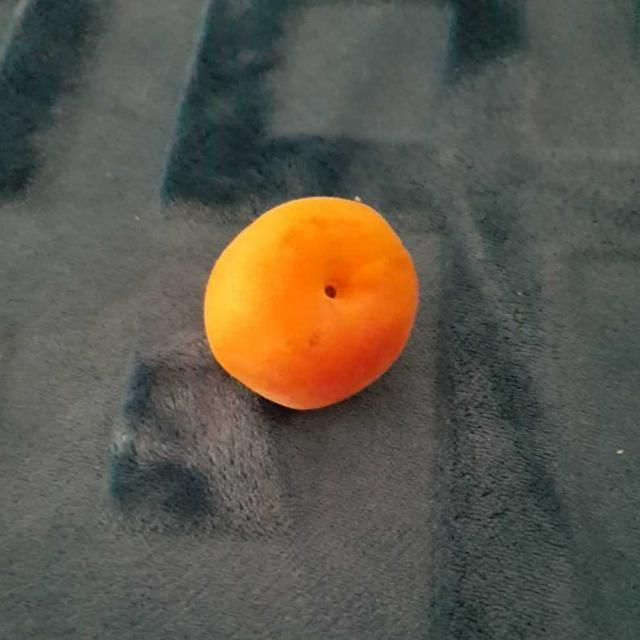apricots: (188, 193, 420, 413)
